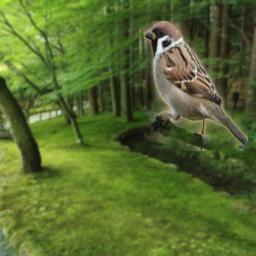Sparrow: (144, 21, 248, 151)
